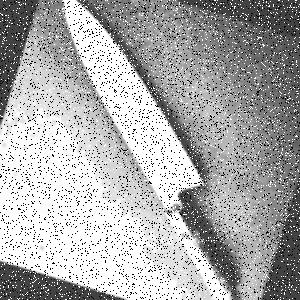knife: (57, 0, 249, 300)
